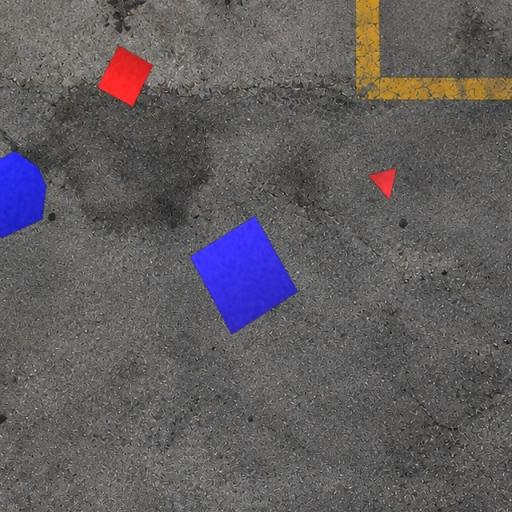BLUE_SQUARE: (190, 215, 298, 335)
RED_SQUARE: (96, 45, 154, 108)
